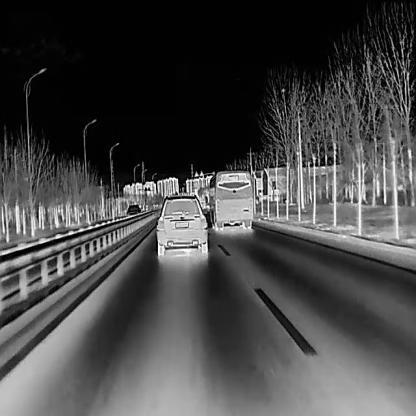car: (156, 192, 208, 255), (204, 170, 252, 228), (125, 204, 141, 218)
